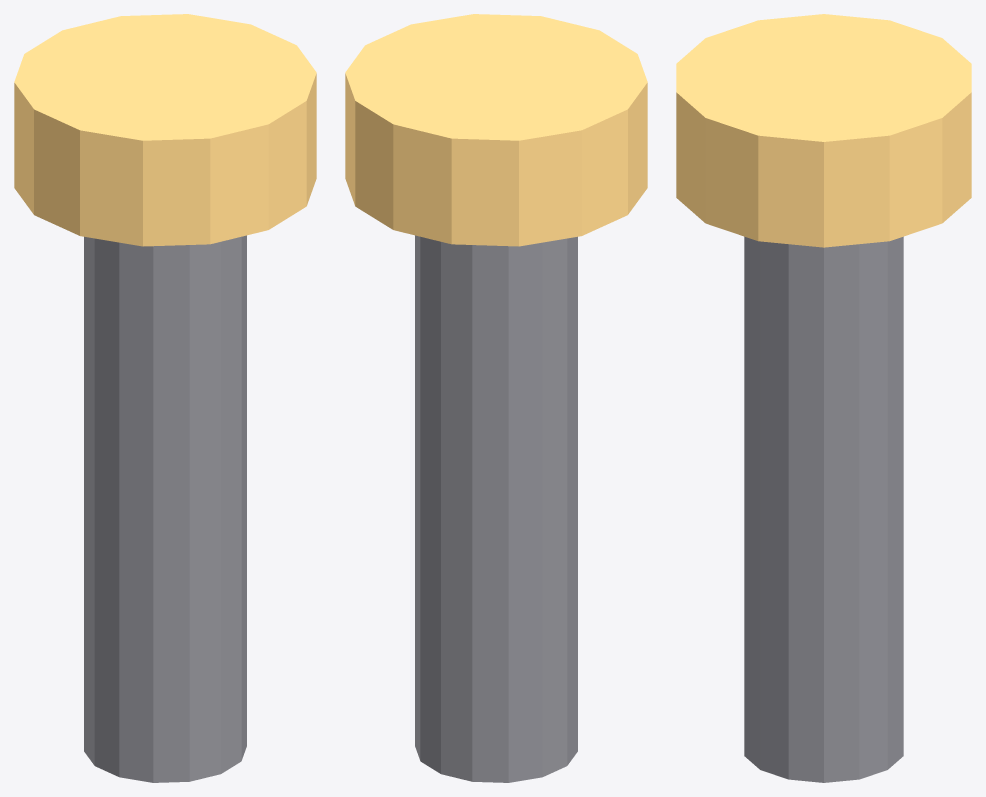
Rendered from gen_piston.glb.
The picture shows the model from 3 angles, left to right: view 1: azimuth 30°, elevation 25°; view 2: azimuth 150°, elevation 25°; view 3: azimuth 270°, elevation 25°; orthographic projection.
Visible parts, largest first — view 1: geometry_0, geometry_1; view 2: geometry_0, geometry_1; view 3: geometry_0, geometry_1.
Boxes of the visible parts, x1,y1,x2,y2 form: geometry_0: (84, 235, 246, 782); geometry_1: (14, 14, 316, 246); geometry_0: (415, 235, 577, 782); geometry_1: (345, 14, 647, 246); geometry_0: (744, 236, 903, 782); geometry_1: (676, 14, 971, 247).
Bounding box in the file's own units: 0.26 × 0.635 × 0.2535.
